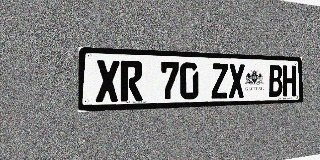0: (180, 62, 199, 100)
7: (159, 62, 179, 100)
B: (269, 65, 283, 97)
H: (283, 65, 296, 97)
R: (120, 60, 143, 102)
X: (96, 60, 120, 102), (229, 64, 245, 98)
Z: (211, 63, 228, 99)
